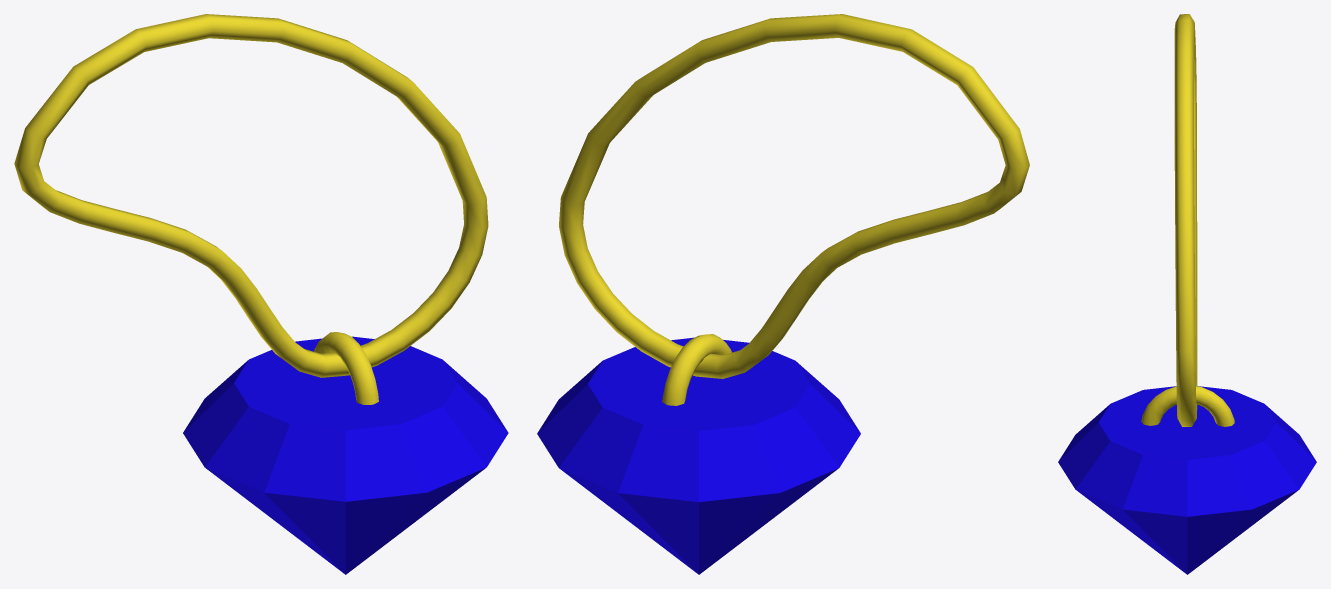
Rendered from GMP_amulet_01.fbx.
The picture shows the model from 3 angles, left to right: view 1: azimuth 30°, elevation 25°; view 2: azimuth 150°, elevation 25°; view 3: azimuth 270°, elevation 25°; orthographic projection. The views are drawn at different scales.
Visible parts, largest first — view 1: Cylinder, BezierCircle.003, Torus; view 2: Cylinder, BezierCircle.003, Torus; view 3: Cylinder, BezierCircle.003, Torus.
Part boxes in pixels (<box>): Cylinder: <box>183,336,508,574</box>; BezierCircle.003: <box>14,14,488,377</box>; Torus: <box>314,332,378,404</box>; Cylinder: <box>537,337,860,574</box>; BezierCircle.003: <box>559,14,1029,378</box>; Torus: <box>662,334,731,405</box>; Cylinder: <box>1058,386,1316,574</box>; BezierCircle.003: <box>1174,14,1197,426</box>; Torus: <box>1141,386,1234,426</box>.
Bounding box in the file's own units: 68.83 × 83.39 × 41.31.
